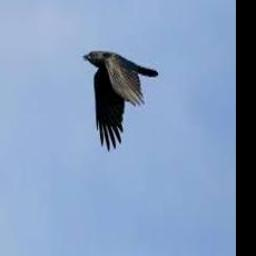Crow: (82, 51, 158, 151)
